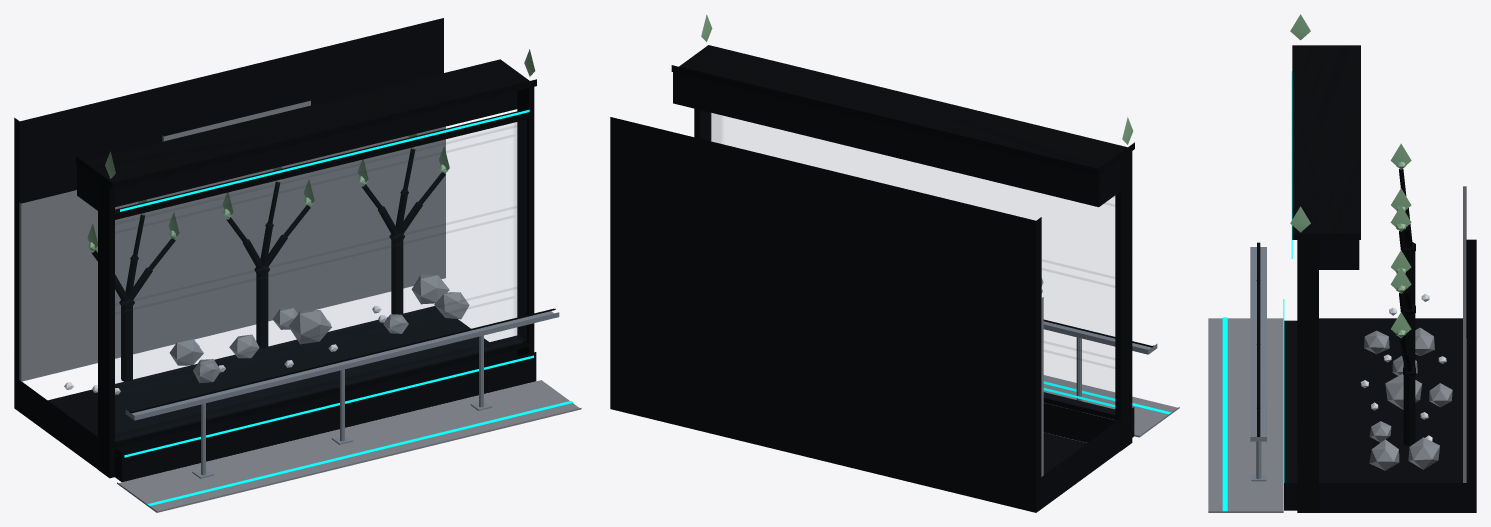
File: v5_branch_tank.glb
The picture shows the model from 3 angles, left to right: view 1: azimuth 30°, elevation 25°; view 2: azimuth 150°, elevation 25°; view 3: azimuth 270°, elevation 25°; orthographic projection. The views are drawn at different scales.
Parts seen in each view (by area): view 1: Tank_Shell, Reef_Backdrop, Acrylic_Frame, Terrazzo_Strip, Sill_Nosing, Glass_Acrylic, Branch_Coral, Lean_Rail, Reef_Rocks, Cyan_Inlay, Coral_Polyps, Header_Light (+2 smaller); view 2: Tank_Shell, Acrylic_Frame, Terrazzo_Strip, Sill_Nosing, Glass_Acrylic, Lean_Rail; view 3: Tank_Shell, Acrylic_Frame, Terrazzo_Strip, Reef_Rocks, Lean_Rail, Branch_Coral, Sill_Nosing, Coral_Polyps, Reef_Backdrop, Cyan_Inlay, Rail_Accent, Mullion_Leaves (+3 smaller).
Part boxes in pixels (bbox=[...]): Tank_Shell: bbox=[14, 18, 522, 469]; Reef_Backdrop: bbox=[19, 100, 445, 381]; Acrylic_Frame: bbox=[75, 59, 536, 478]; Terrazzo_Strip: bbox=[117, 380, 581, 512]; Sill_Nosing: bbox=[114, 352, 536, 482]; Glass_Acrylic: bbox=[115, 120, 526, 395]; Branch_Coral: bbox=[91, 148, 445, 381]; Lean_Rail: bbox=[125, 311, 559, 478]; Reef_Rocks: bbox=[169, 274, 469, 383]; Cyan_Inlay: bbox=[147, 401, 573, 505]; Coral_Polyps: bbox=[87, 133, 449, 250]; Header_Light: bbox=[120, 109, 529, 211]; Tank_Shell: bbox=[610, 72, 1120, 512]; Acrylic_Frame: bbox=[671, 45, 1134, 451]; Terrazzo_Strip: bbox=[1043, 375, 1179, 437]; Sill_Nosing: bbox=[1043, 403, 1134, 442]; Glass_Acrylic: bbox=[709, 113, 1114, 368]; Lean_Rail: bbox=[1043, 321, 1157, 412]; Tank_Shell: bbox=[1319, 239, 1476, 512]; Acrylic_Frame: bbox=[1292, 45, 1360, 512]; Terrazzo_Strip: bbox=[1208, 318, 1283, 512]; Reef_Rocks: bbox=[1364, 327, 1452, 470]; Lean_Rail: bbox=[1250, 247, 1266, 481]; Branch_Coral: bbox=[1399, 169, 1415, 445]; Sill_Nosing: bbox=[1284, 320, 1297, 510]; Coral_Polyps: bbox=[1390, 143, 1411, 337]; Reef_Backdrop: bbox=[1463, 186, 1466, 482]; Cyan_Inlay: bbox=[1222, 317, 1227, 511]; Rail_Accent: bbox=[1257, 242, 1260, 436]; Mullion_Leaves: bbox=[1290, 14, 1310, 232].
Size of what is drawn, in the model's own units: 5.5 by 4.03 by 3.2.
Materials: 8 (5 with a texture image).
